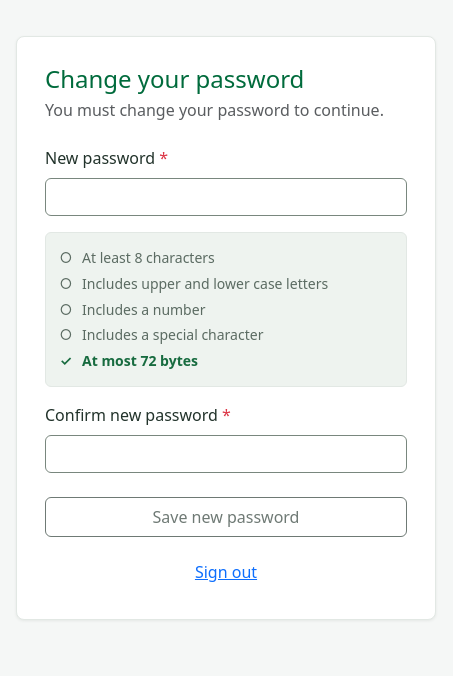
C-02 Change Password gate › surfaces the server's unmet rules rather than a generic message
Type "Password1!" into the password field labelled "New password *" at (226, 197), box [45, 178, 407, 216]
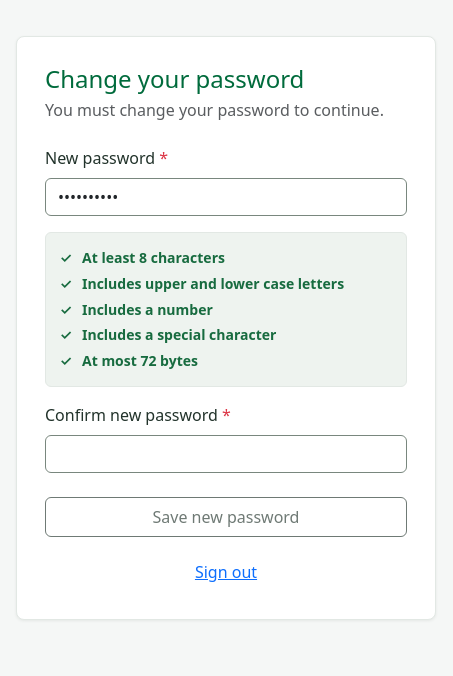
Type "Password1!" into the password field labelled "Confirm new password *" at (226, 454), box [45, 435, 407, 473]
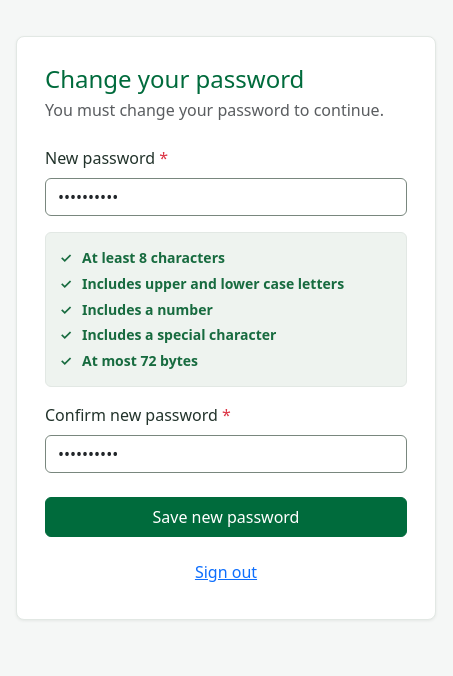
Click the button "Save new password" at (226, 517), box [45, 497, 407, 537]
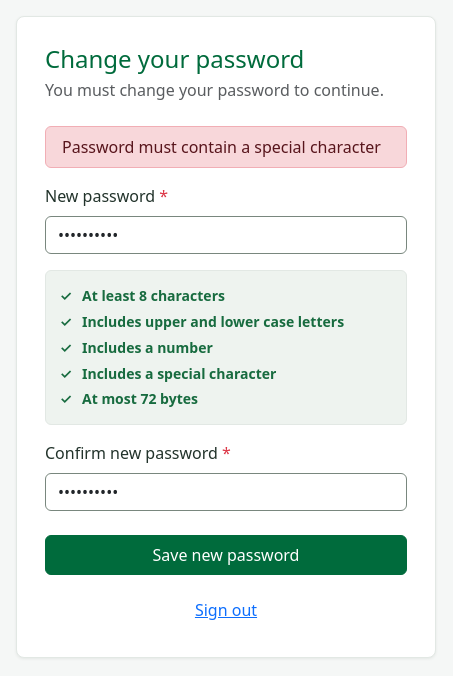
Result: the message with test id "change-password-error" shows "special character" at [62, 136, 381, 158]
